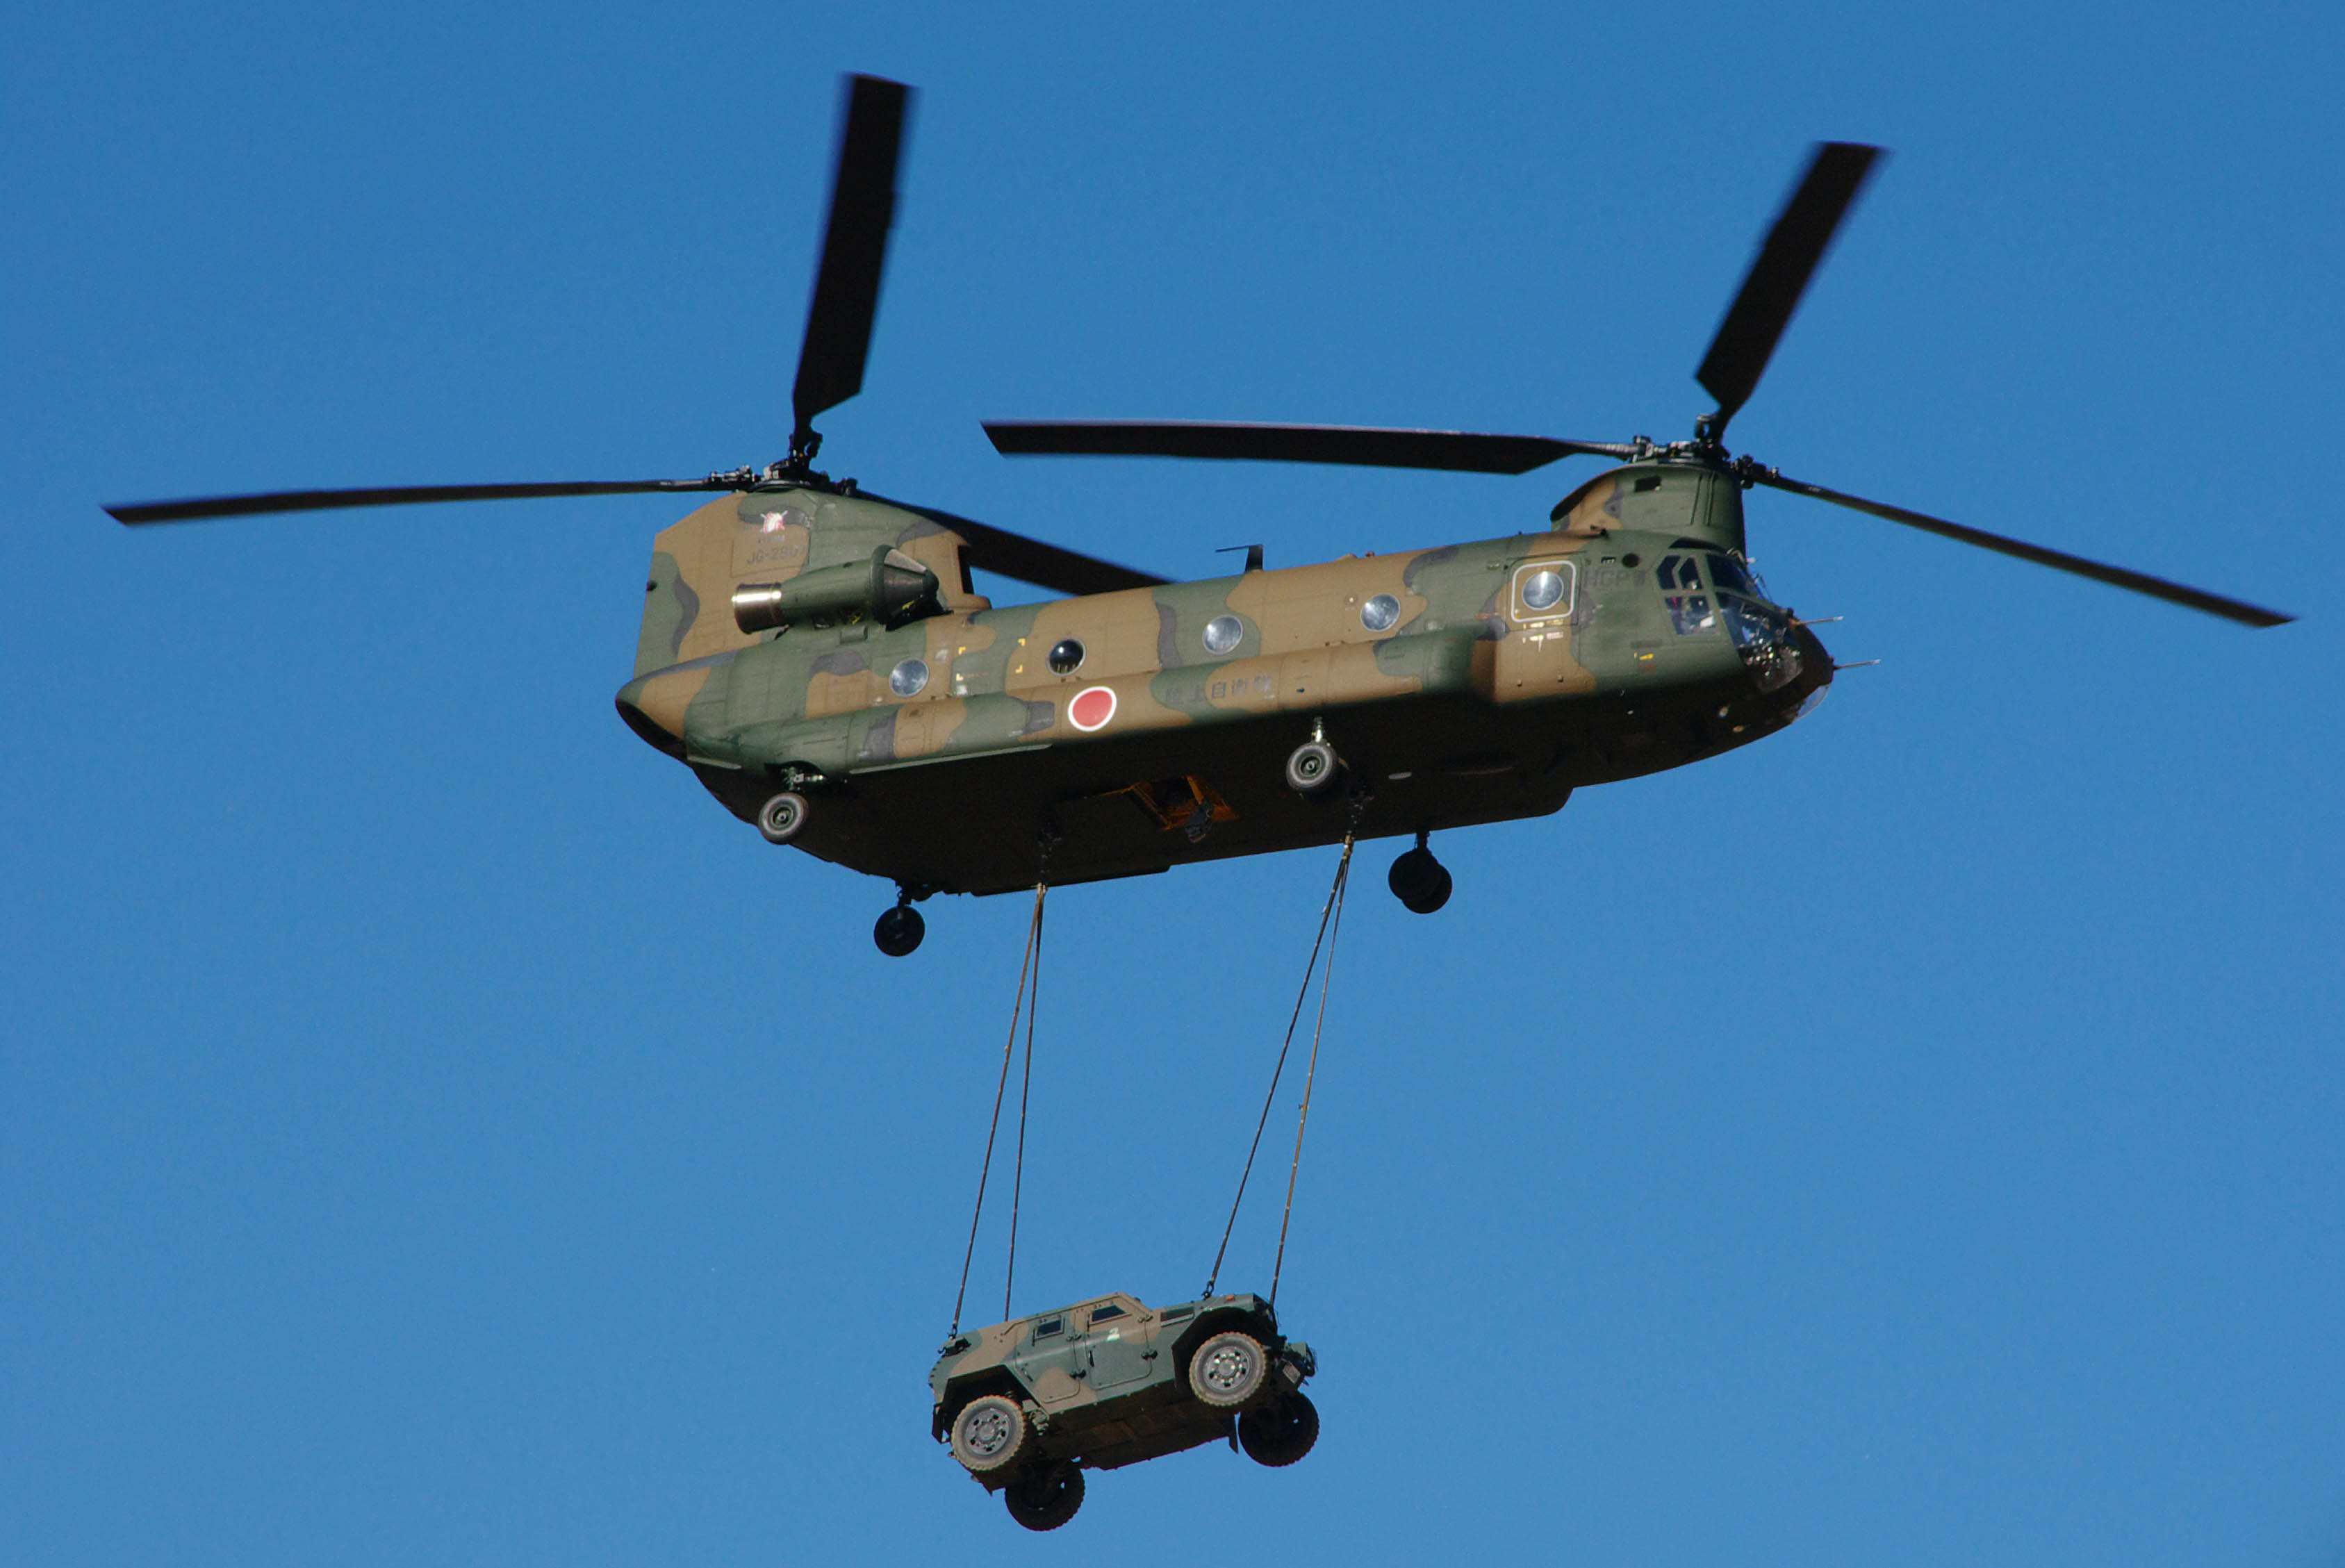chinook: (299, 110, 2308, 962)
